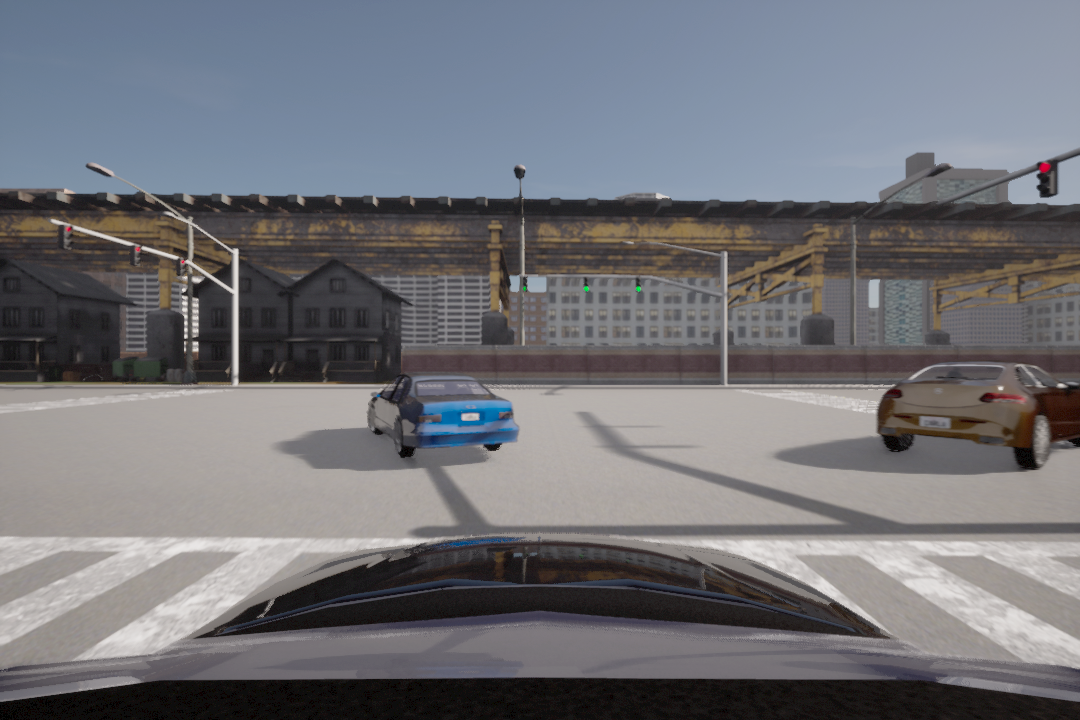TrafficLight: (1032, 157, 1061, 198), (57, 224, 77, 254), (128, 245, 145, 270), (175, 256, 188, 278), (519, 274, 530, 294), (581, 274, 591, 294), (632, 276, 642, 294)
